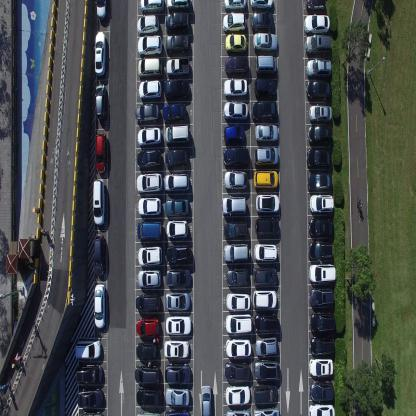car: (136, 171, 164, 194), (94, 29, 107, 78), (164, 123, 191, 146), (74, 338, 102, 360), (137, 147, 162, 171), (165, 361, 191, 384), (221, 194, 247, 217), (306, 80, 332, 103), (306, 148, 332, 171), (252, 359, 279, 381), (222, 99, 249, 121), (163, 78, 190, 100), (305, 34, 332, 56), (308, 264, 336, 285), (93, 177, 105, 226), (137, 289, 161, 313), (166, 241, 190, 265), (224, 336, 250, 358), (165, 289, 191, 311), (166, 266, 192, 288), (310, 312, 336, 334), (252, 99, 278, 121), (93, 233, 106, 277), (137, 56, 163, 78), (164, 10, 190, 32), (306, 57, 332, 79), (225, 312, 252, 333), (77, 387, 104, 408), (74, 363, 102, 383), (138, 244, 162, 267), (255, 216, 279, 239), (224, 169, 248, 192), (94, 282, 106, 328), (138, 78, 162, 101), (165, 32, 189, 55), (136, 12, 160, 35), (224, 360, 249, 382), (165, 172, 190, 194), (255, 193, 280, 215), (223, 76, 248, 98), (137, 34, 162, 56), (223, 241, 249, 262), (225, 291, 251, 312), (252, 146, 278, 167), (252, 31, 278, 52), (136, 386, 162, 407), (165, 314, 192, 334), (222, 147, 249, 167), (165, 147, 188, 170), (138, 267, 162, 289), (253, 241, 277, 263), (136, 103, 160, 125), (253, 76, 277, 98), (250, 9, 274, 31), (253, 382, 277, 404), (310, 380, 334, 402), (309, 216, 333, 238), (162, 102, 187, 123), (222, 12, 247, 33), (225, 384, 250, 405), (304, 13, 329, 34), (307, 172, 332, 193), (252, 288, 278, 308), (138, 220, 164, 240), (164, 386, 190, 406), (308, 126, 334, 146), (226, 266, 249, 288), (254, 53, 277, 75), (166, 198, 190, 219), (136, 316, 160, 337), (138, 195, 162, 216), (254, 169, 278, 190), (224, 54, 248, 75), (95, 132, 107, 174), (166, 56, 190, 77), (164, 338, 189, 358), (308, 242, 333, 262), (310, 336, 335, 356), (309, 357, 334, 377), (310, 288, 335, 308), (254, 123, 279, 143), (254, 314, 280, 333), (223, 124, 245, 146), (224, 32, 247, 53), (135, 364, 159, 384), (253, 266, 277, 286), (224, 220, 248, 240), (138, 126, 162, 146), (166, 219, 188, 240), (255, 336, 278, 356), (310, 194, 334, 213), (95, 83, 107, 120), (309, 103, 332, 122), (136, 340, 158, 359), (200, 383, 212, 415), (308, 402, 336, 415), (139, 0, 164, 12), (95, 0, 108, 22), (223, 0, 248, 11), (304, 0, 326, 12), (253, 405, 279, 415), (167, 0, 191, 10), (164, 407, 190, 415), (224, 408, 250, 416), (249, 0, 274, 8), (136, 408, 161, 416), (78, 410, 103, 415)
